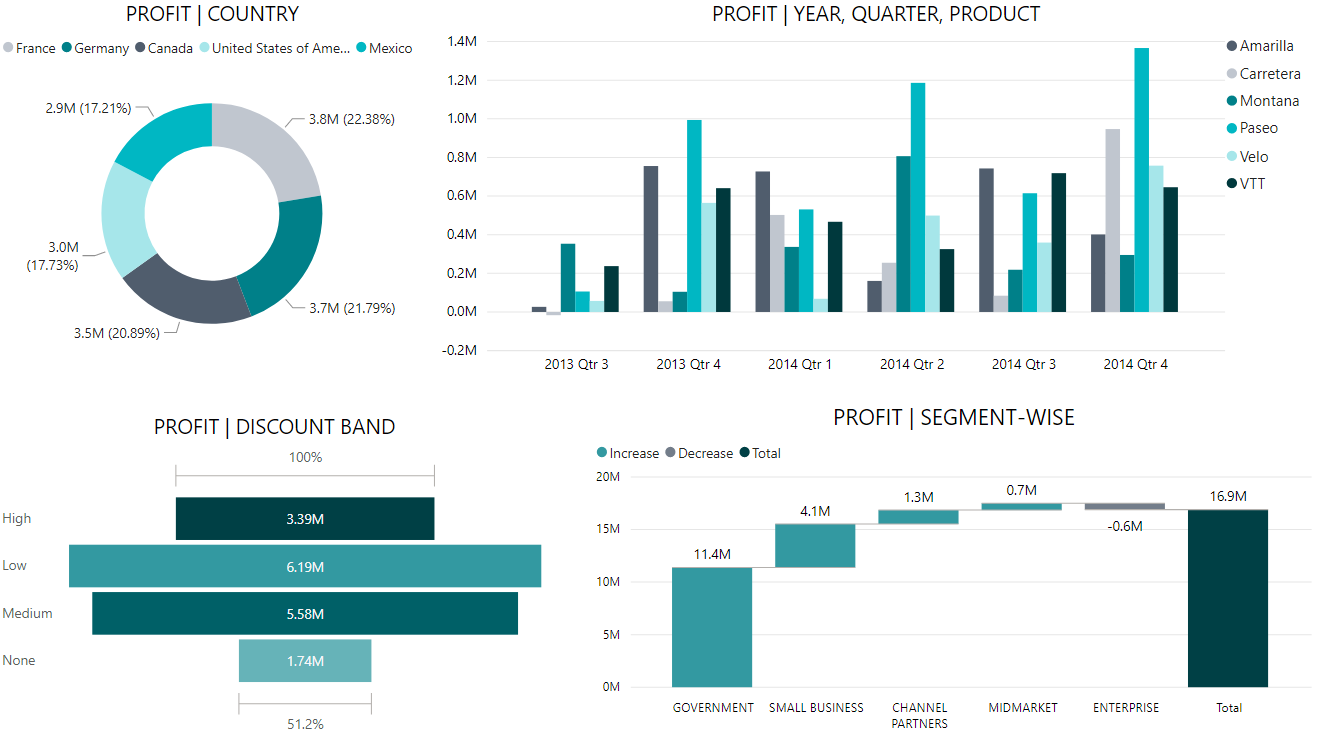

The page's visual inventory and layout, read from the dashboard file:
{"tool":"powerbi","page":{"name":"PROFIT ANALYSIS","canvas":[1280,720],"ordinal":2},"visuals":[{"type":"donutChart","title":"PROFIT | COUNTRY","fields":{"Category":["financials.Country"],"Y":["Sum(financials.Profit)"]},"box":[0,0,417.3,360.6],"z":0},{"type":"funnel","title":"PROFIT | DISCOUNT BAND","fields":{"Category":["financials.Discount Band Hierarchy.Discount Band","financials.Discount Band Hierarchy.Date"],"Y":["Sum(financials.Profit)"]},"box":[0,400.4,537.9,319.6],"z":1000},{"type":"waterfallChart","title":"PROFIT | SEGMENT-WISE","fields":{"Category":["financials.Segment"],"Y":["Sum(financials.Profit)"]},"box":[575.3,390.8,704.3,329.2],"z":3000},{"type":"lineClusteredColumnComboChart","title":"PROFIT | YEAR, QUARTER, PRODUCT","fields":{"Category":["financials.Date.Variation.Date Hierarchy.Year","financials.Date.Variation.Date Hierarchy.Quarter"],"Y":["Sum(financials.Profit)"],"Series":["financials.Product"]},"box":[425.7,0,853.9,372.7],"z":4000}]}

Visuals, with their boxes in screenshot pixels (x1, y1, x2, y2), scaled from the page's 1280x720 canvas onto the 1317x737 screenshot:
"PROFIT | COUNTRY" donutChart: [0,0,429,369]
"PROFIT | DISCOUNT BAND" funnel: [0,410,553,736]
"PROFIT | SEGMENT-WISE" waterfallChart: [592,400,1316,736]
"PROFIT | YEAR, QUARTER, PRODUCT" lineClusteredColumnComboChart: [438,0,1316,381]
